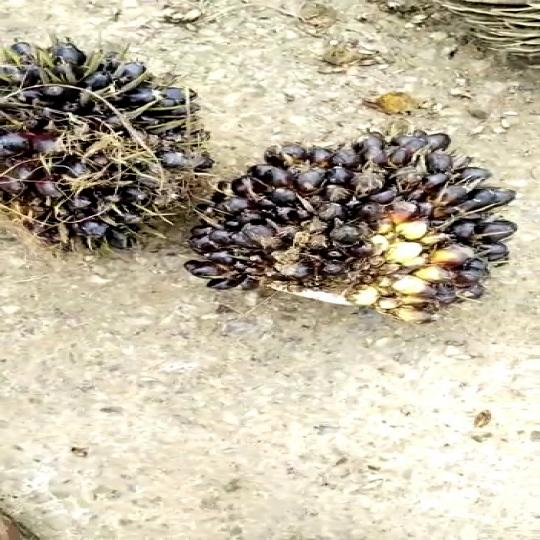mentah: (194, 120, 540, 331), (0, 39, 230, 240)
